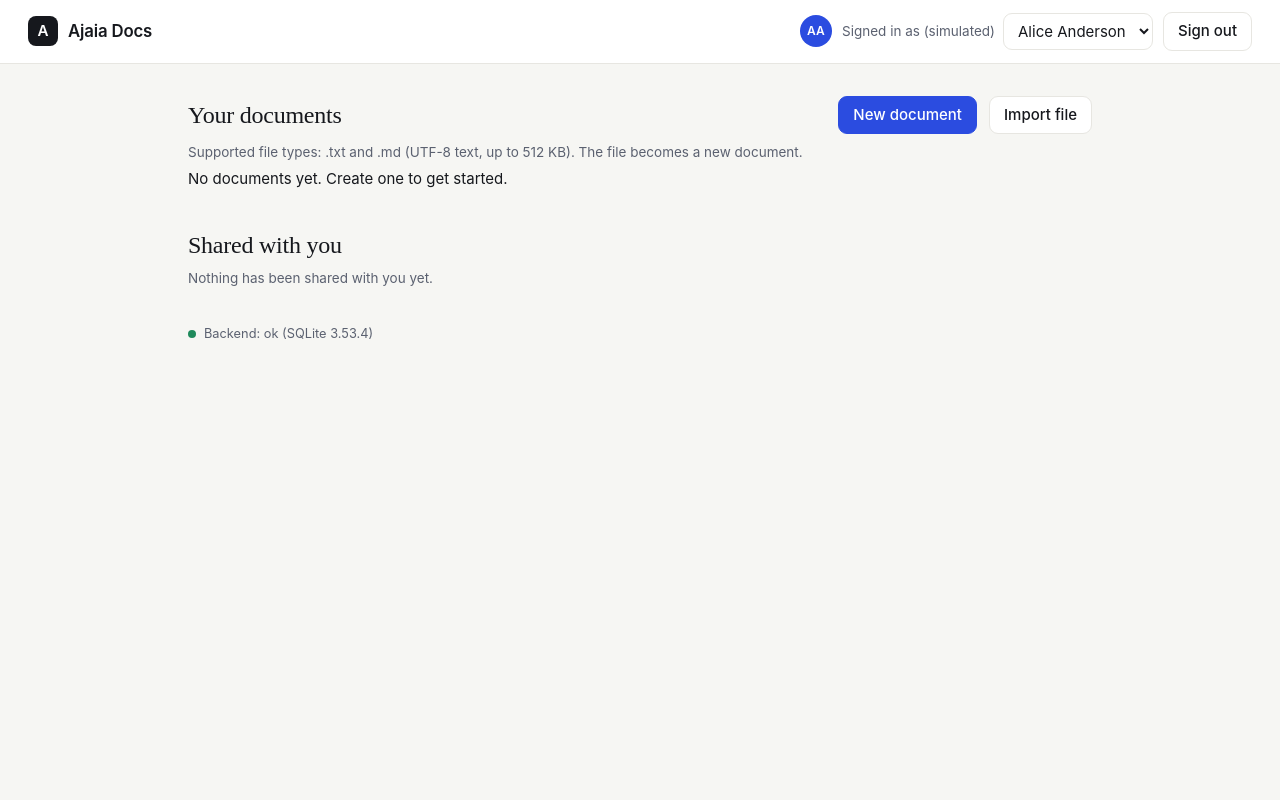
Simulated sign-in (UI) › [FR-3.2] signing out returns to the choose-a-user screen and hides all documents
What coordinates should you click on to do the following:
click the button "Sign out"
I would click on:
 (1208, 31)
Its box is [1163, 12, 1252, 50].
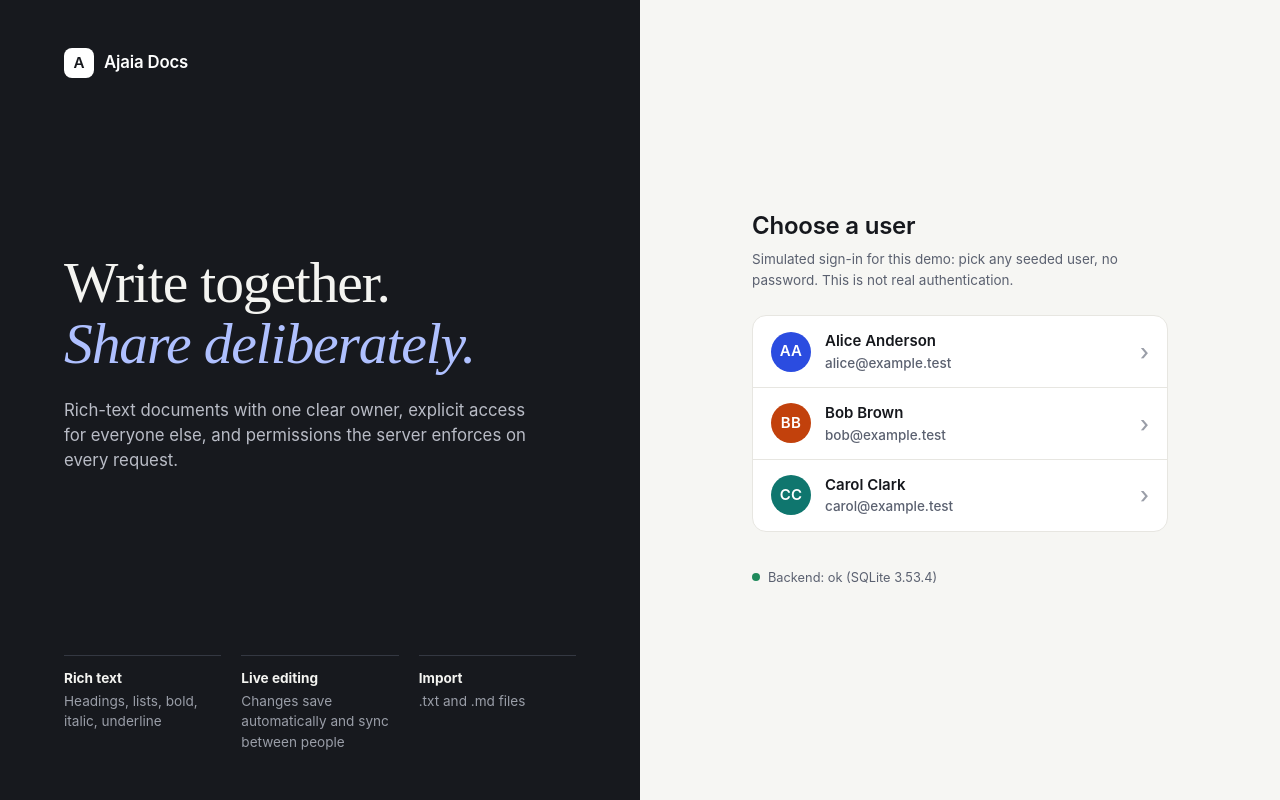
Expected: the heading "Choose a user" is shown, [752, 211, 915, 240]
Expected: the heading "Your documents" is gone
